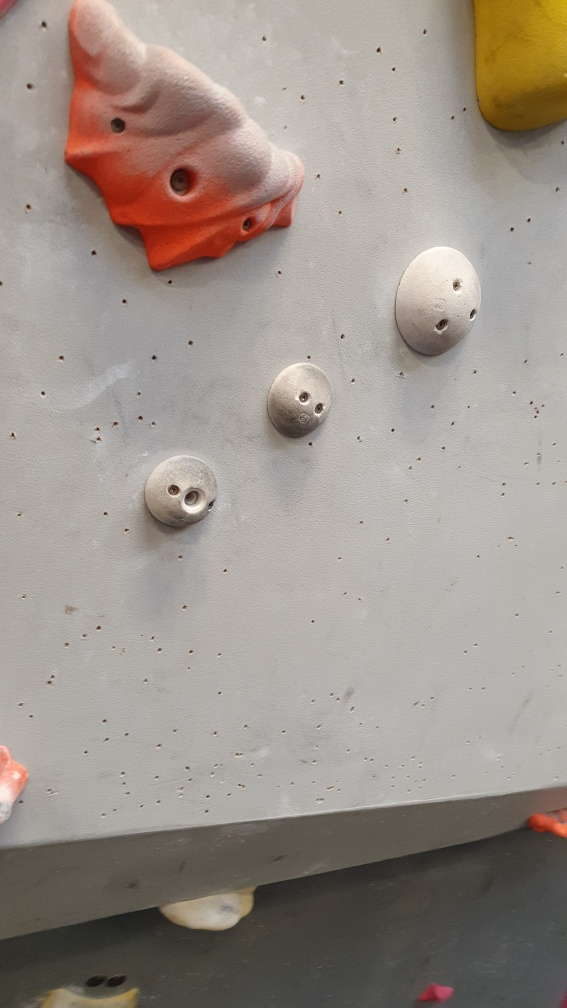Jug: (60, 1, 313, 284)
Sloper: (393, 242, 486, 360), (146, 452, 219, 535), (265, 357, 337, 436)
